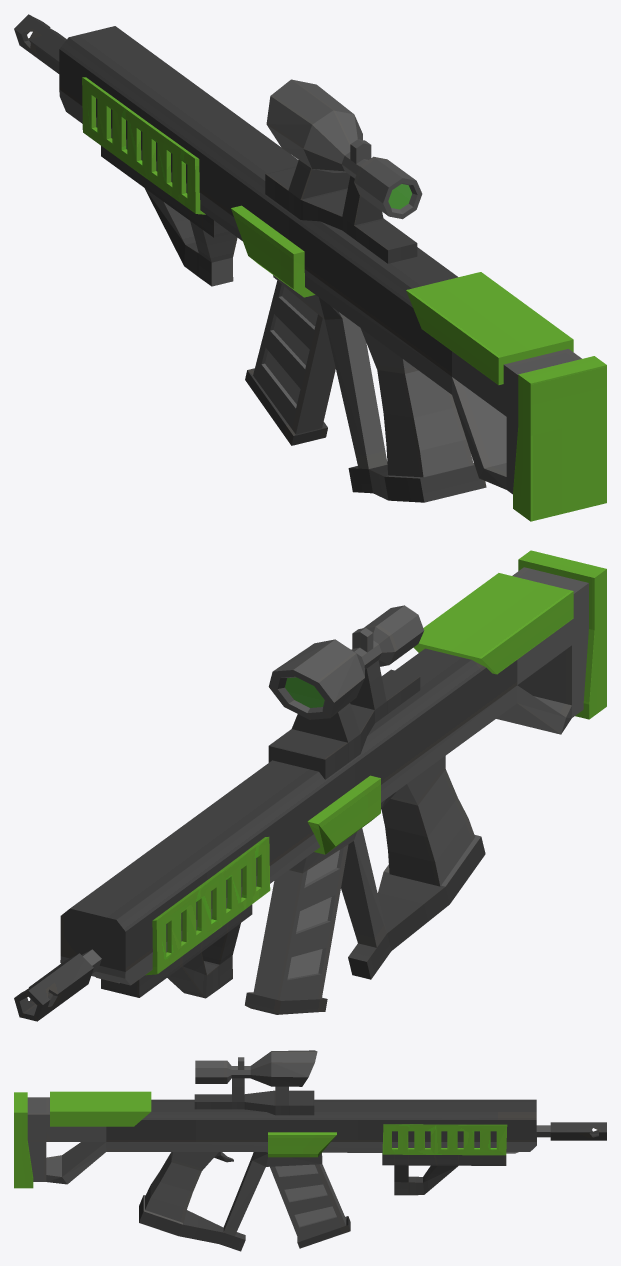
The model's file is battlerifle.glb.
3 renders of one model, top to bottom at view 1: azimuth 30°, elevation 25°; view 2: azimuth 150°, elevation 25°; view 3: azimuth 270°, elevation 25°, orthographic. The views are drawn at different scales.
Visible parts, largest first — view 1: fusil_6_texture_0, fusil_scope_6_texture_0, fusil_charguer_6_texture_0; view 2: fusil_6_texture_0, fusil_scope_6_texture_0, fusil_charguer_6_texture_0; view 3: fusil_6_texture_0, fusil_scope_6_texture_0, fusil_charguer_6_texture_0.
Part boxes in pixels (x1,y1,x2,y2): fusil_6_texture_0: (14,14,606,521); fusil_scope_6_texture_0: (265,79,422,263); fusil_charguer_6_texture_0: (245,281,335,445); fusil_6_texture_0: (14,550,606,1021); fusil_scope_6_texture_0: (268,605,424,779); fusil_charguer_6_texture_0: (245,844,348,1014); fusil_6_texture_0: (14,1091,606,1251); fusil_scope_6_texture_0: (194,1050,317,1115); fusil_charguer_6_texture_0: (270,1164,350,1248).
Bounding box in the file's own units: 0.2999 × 1.21 × 3.3.
1 material, 1 textured.
